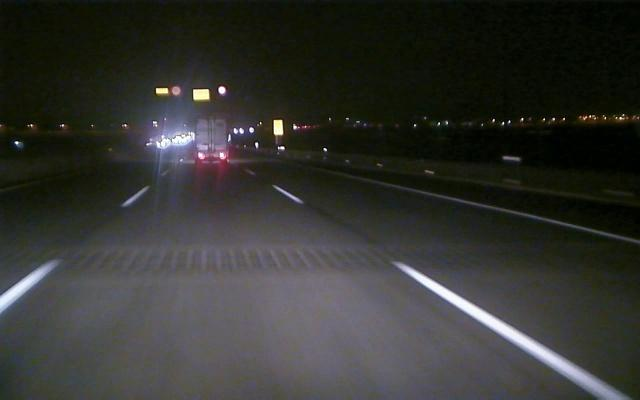lane: (272, 183, 634, 399), (1, 191, 142, 312), (382, 181, 640, 244)
